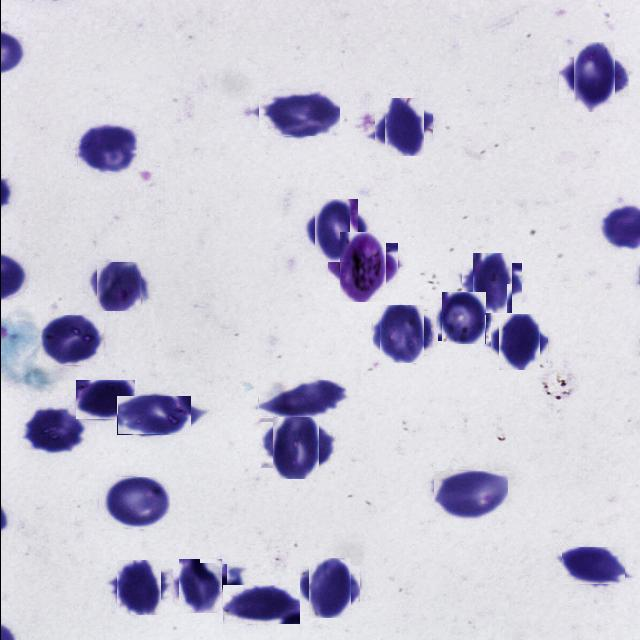gametocyte: (332, 238, 392, 296)
red blood cell: (98, 477, 169, 529), (258, 91, 339, 136), (433, 471, 507, 519), (266, 416, 324, 474), (257, 380, 345, 418), (40, 315, 103, 365), (565, 49, 621, 105), (222, 585, 299, 624), (76, 124, 136, 174), (116, 396, 190, 435), (308, 204, 362, 256), (303, 562, 355, 614), (24, 407, 83, 452), (376, 308, 426, 360), (466, 258, 516, 308), (378, 102, 428, 152), (114, 563, 164, 613), (560, 547, 624, 585), (494, 318, 543, 367), (175, 562, 224, 610), (440, 294, 488, 342), (75, 380, 134, 419), (94, 263, 141, 310)
